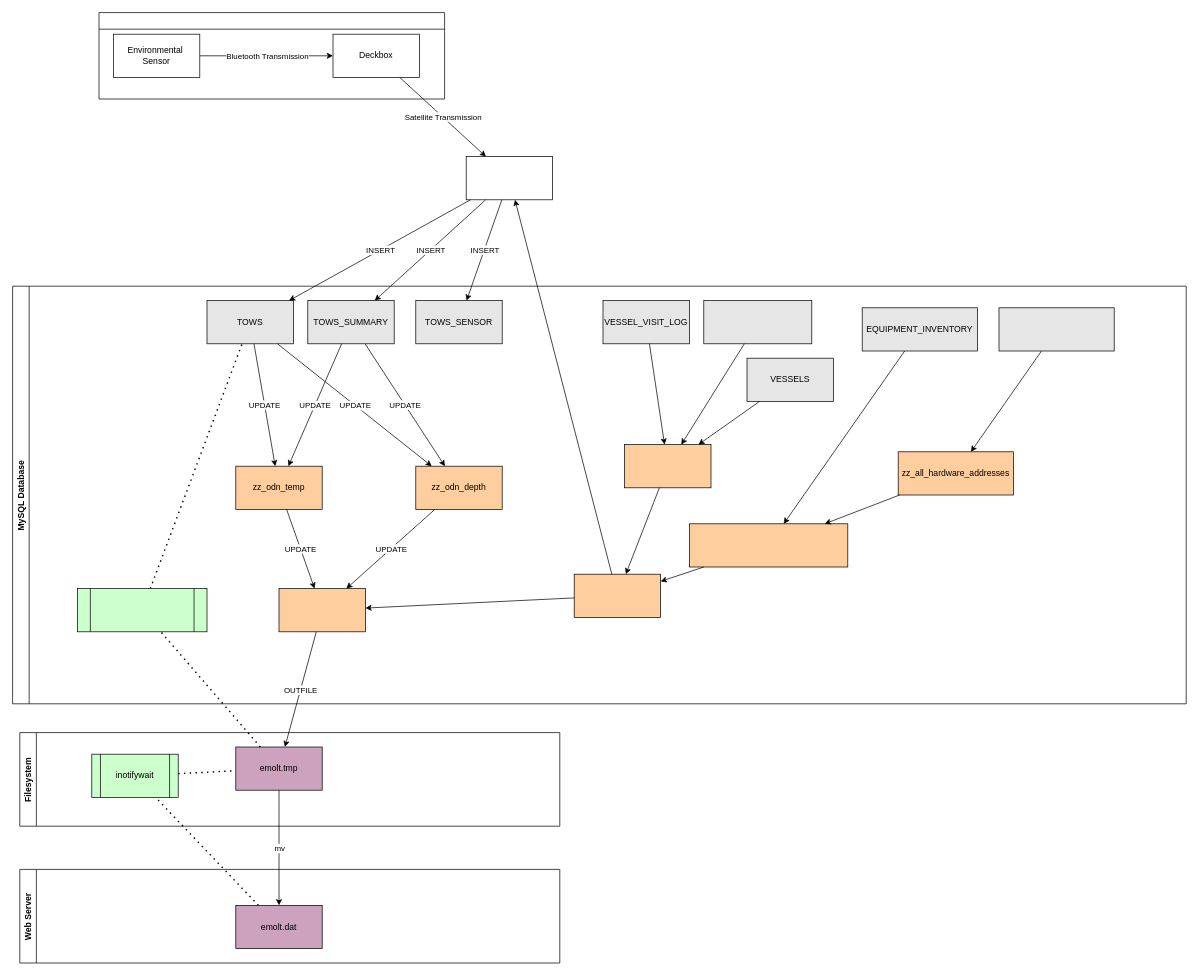
This 1199x976 diagram has some shape labels left out. Here are the shapes that lost their labels. From the top down, the centre of each, then its label:
the point at 271,55: Fishing Vessel
the point at 509,178: API
the point at 757,322: EQUIPMENT_CHANGE
the point at 1056,329: HARDWARE_ADDRESSES
the point at 667,466: zz_vessel_visits
the point at 768,545: zz_installed_gear_and_addresses
the point at 142,610: proc_emolt_dat_refresh
the point at 321,610: emolt_dat
the point at 617,595: vessel_sat
